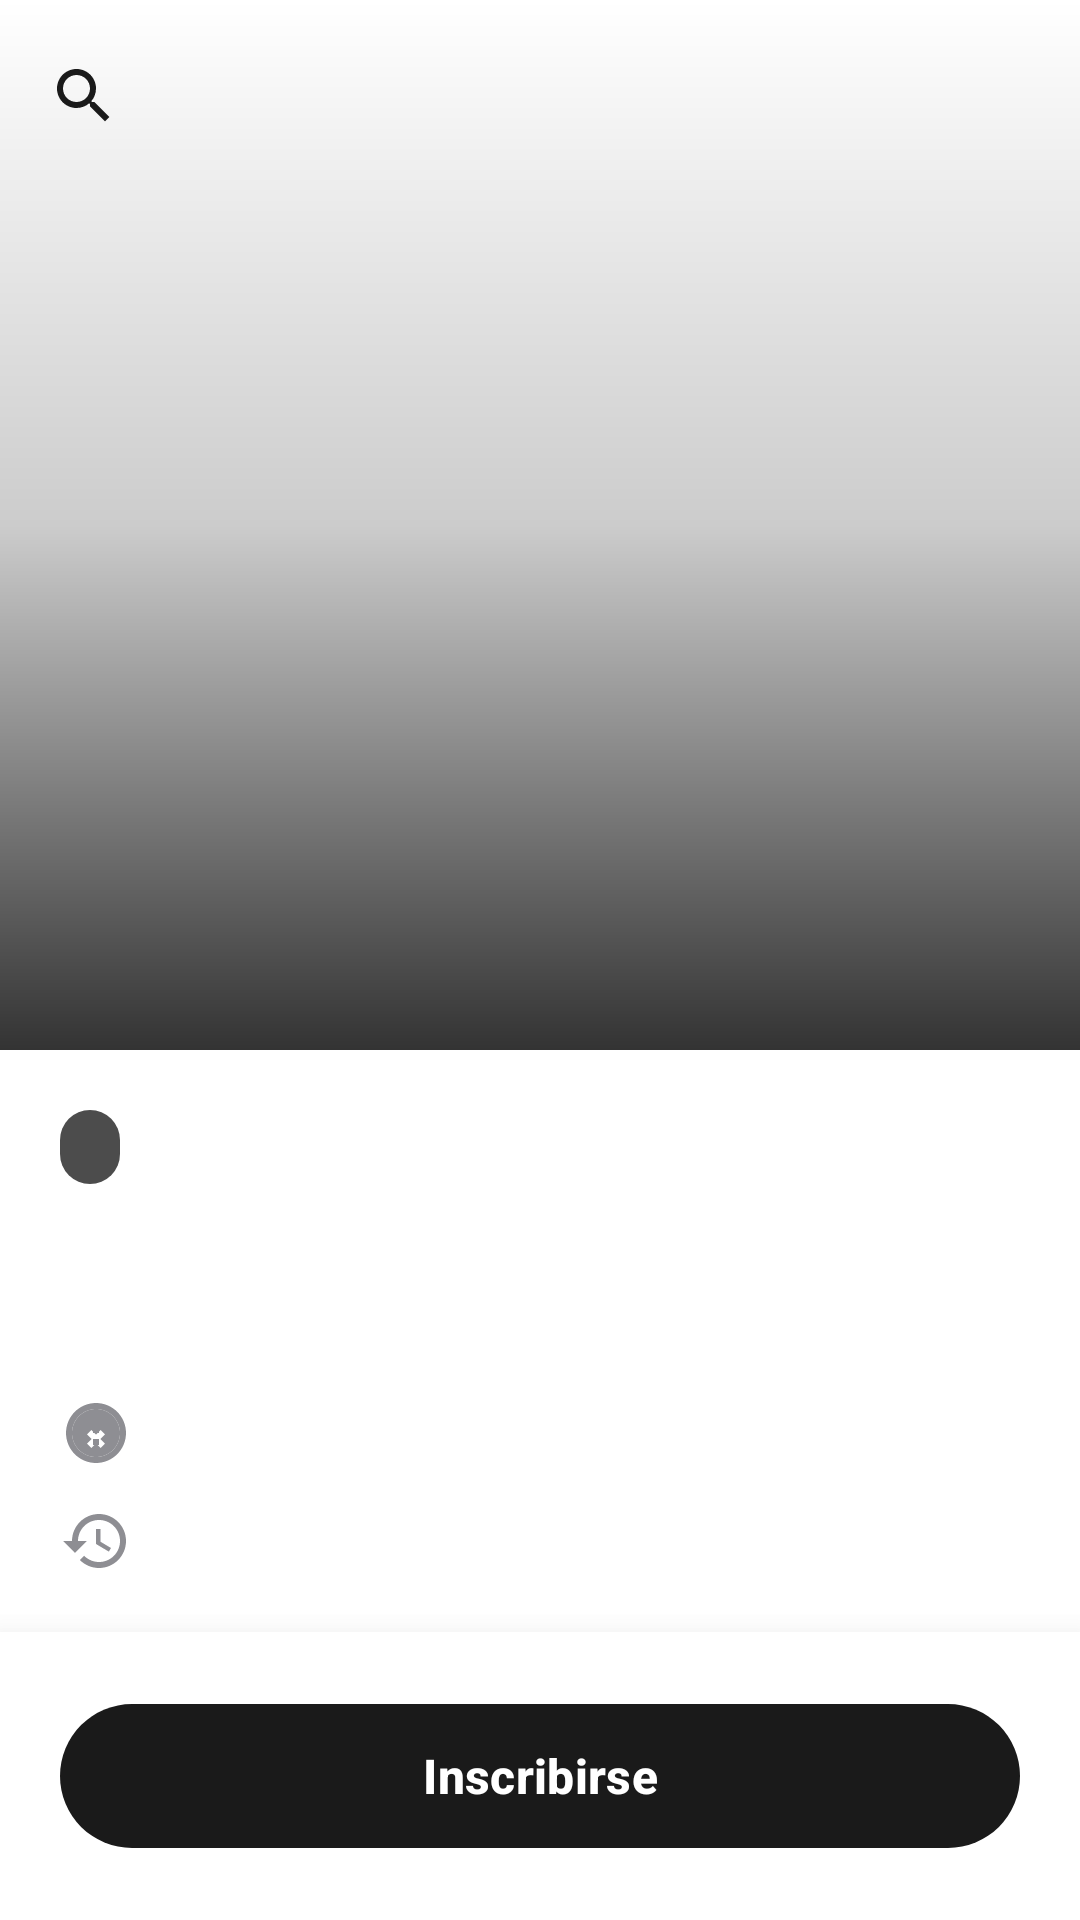

Screen size 1080×1920. Icon name, then its box in pixels as (x1, y1, x2, y2):
historial: (63, 1514, 126, 1568)
